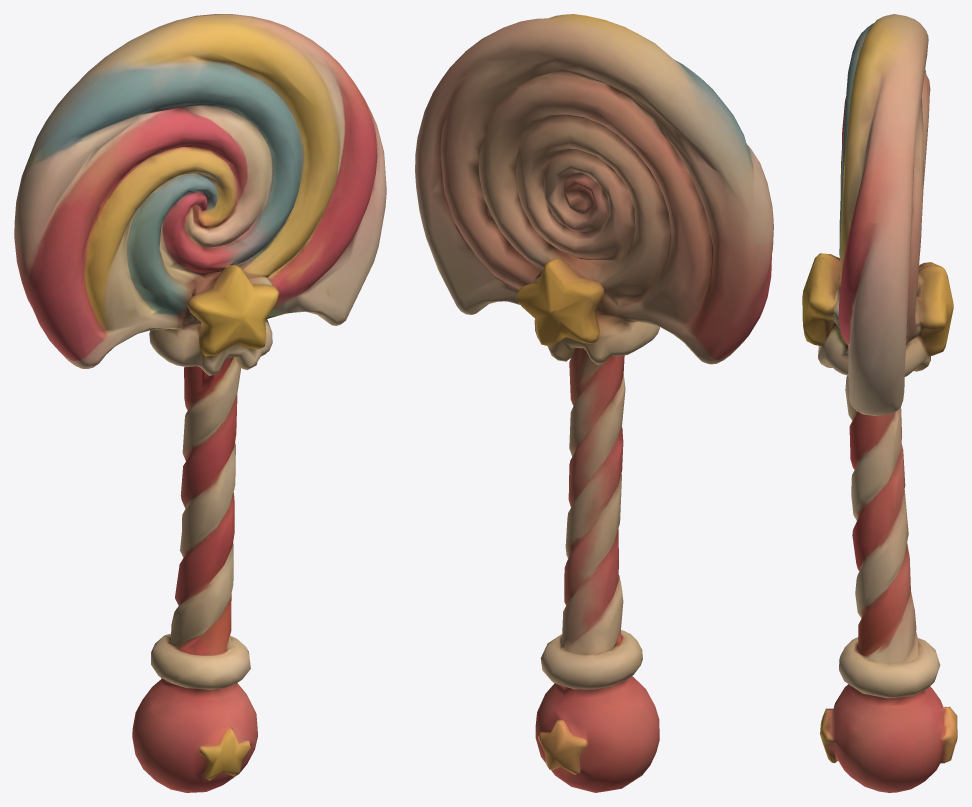
Rendered from candy_axe.glb.
3 views of the same model, side by side, from view 1: azimuth 30°, elevation 25°; view 2: azimuth 150°, elevation 25°; view 3: azimuth 270°, elevation 25° (orthographic).
Parts seen in each view (by area): view 1: tripo_node_f1ac7b91-599e-4cc6-abcd-a812b9132c8d; view 2: tripo_node_f1ac7b91-599e-4cc6-abcd-a812b9132c8d; view 3: tripo_node_f1ac7b91-599e-4cc6-abcd-a812b9132c8d.
Part boxes in pixels (x1,y1,x2,y2): tripo_node_f1ac7b91-599e-4cc6-abcd-a812b9132c8d: (14, 14, 386, 792); tripo_node_f1ac7b91-599e-4cc6-abcd-a812b9132c8d: (415, 14, 773, 792); tripo_node_f1ac7b91-599e-4cc6-abcd-a812b9132c8d: (802, 14, 957, 792).
Bounding box in the file's own units: 0.487 × 1 × 0.1862.
Materials: 1 (1 with a texture image).
